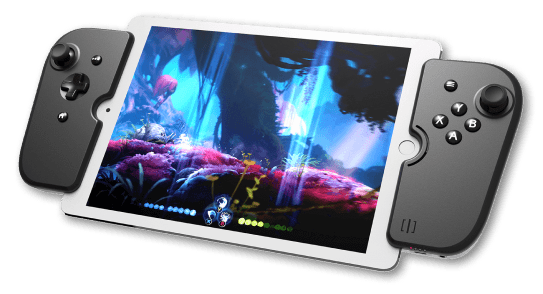controller: (17, 25, 526, 263)
